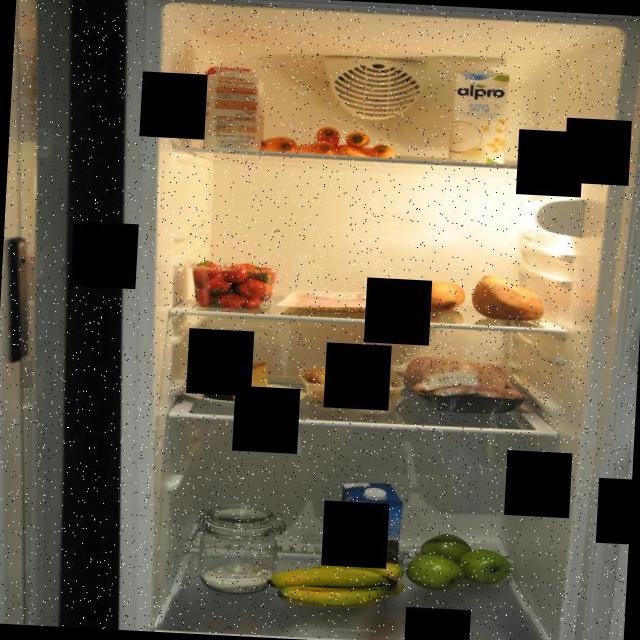Carne cerdo: (276, 288, 418, 316)
Carne pollo: (394, 350, 530, 415)
Leche: (334, 476, 408, 588), (450, 66, 514, 167)
Manzana: (397, 528, 517, 593)
Patata: (296, 359, 402, 416)
Plátano: (264, 554, 409, 612)
Queso: (199, 358, 276, 406)
Zanahoria: (259, 122, 401, 163)
